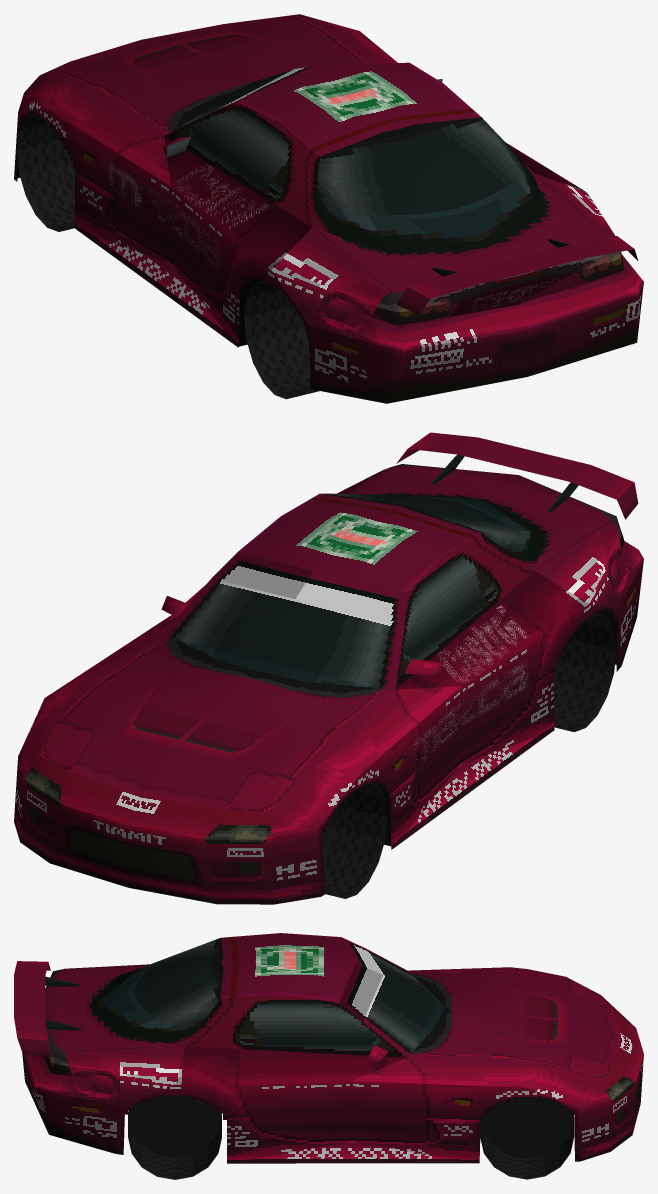
File: GT_SIMULATION__AFN7R.glb
3 views of the same model, one above another, from view 1: azimuth 30°, elevation 25°; view 2: azimuth 150°, elevation 25°; view 3: azimuth 270°, elevation 25° (orthographic). The views are drawn at different scales.
Visible parts, largest first — view 1: Native body LOD0, Native wheel 2, Native wheel 0; view 2: Native body LOD0, Native wheel 0, Native wheel 2; view 3: Native body LOD0, Native wheel 3, Native wheel 1.
Part boxes in pixels (<box>): Native body LOD0: <box>14,14,643,403</box>; Native wheel 2: <box>244,280,319,399</box>; Native wheel 0: <box>16,113,75,231</box>; Native body LOD0: <box>14,432,643,904</box>; Native wheel 0: <box>322,782,387,898</box>; Native wheel 2: <box>553,612,616,732</box>; Native body LOD0: <box>14,933,643,1163</box>; Native wheel 3: <box>128,1095,221,1179</box>; Native wheel 1: <box>480,1096,574,1179</box>.
Size of the model in its own units: 1.95 by 1.23 by 4.34.
13 materials, 12 textured.
